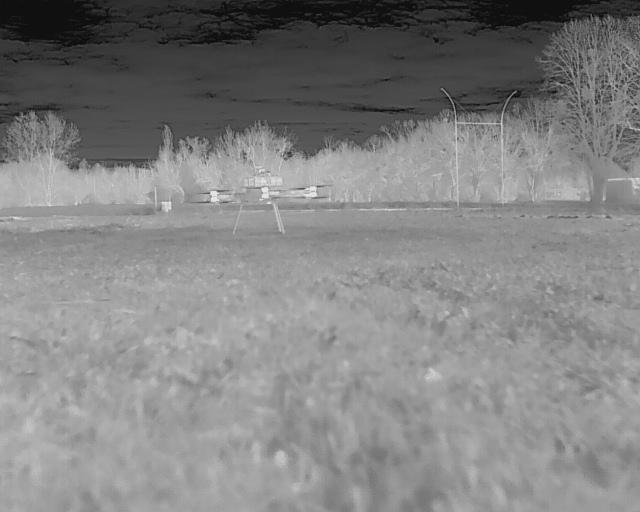drone: (182, 158, 341, 245)
